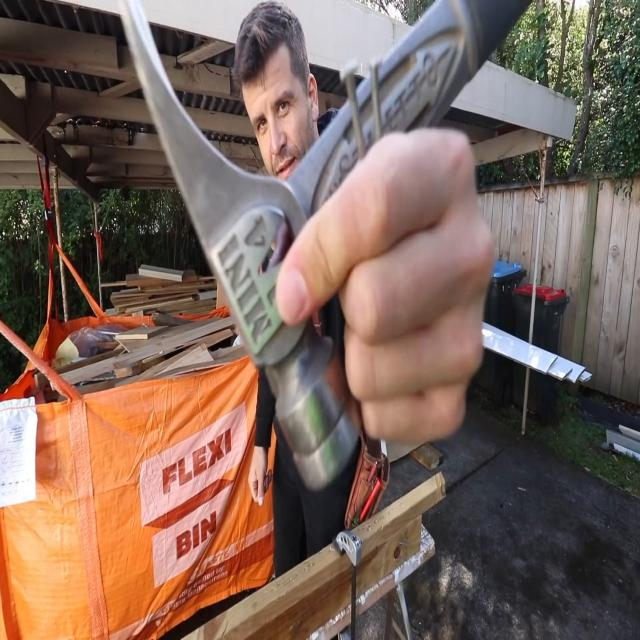hammer: (118, 0, 536, 495)
